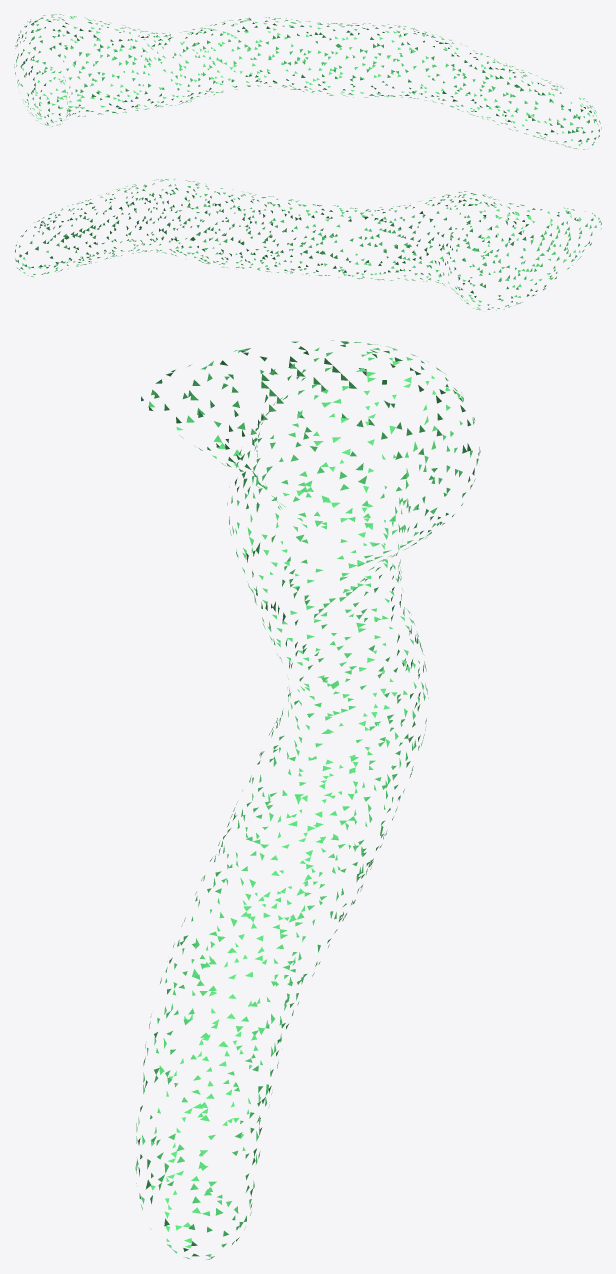
File: morph_020.glb
3 renders of one model, top to bottom at view 1: azimuth 30°, elevation 25°; view 2: azimuth 150°, elevation 25°; view 3: azimuth 270°, elevation 25°, orthographic. The views are drawn at different scales.
Size of the model in its own units: 108 by 40.39 by 29.38.
